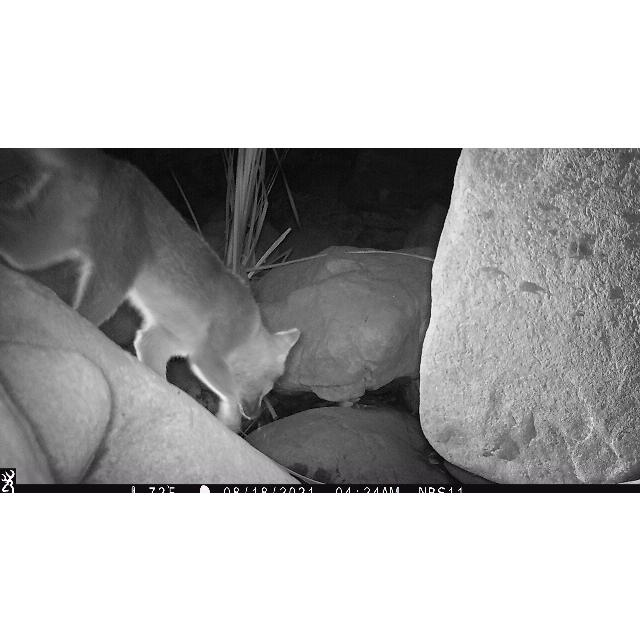animals: (0, 147, 304, 423)
